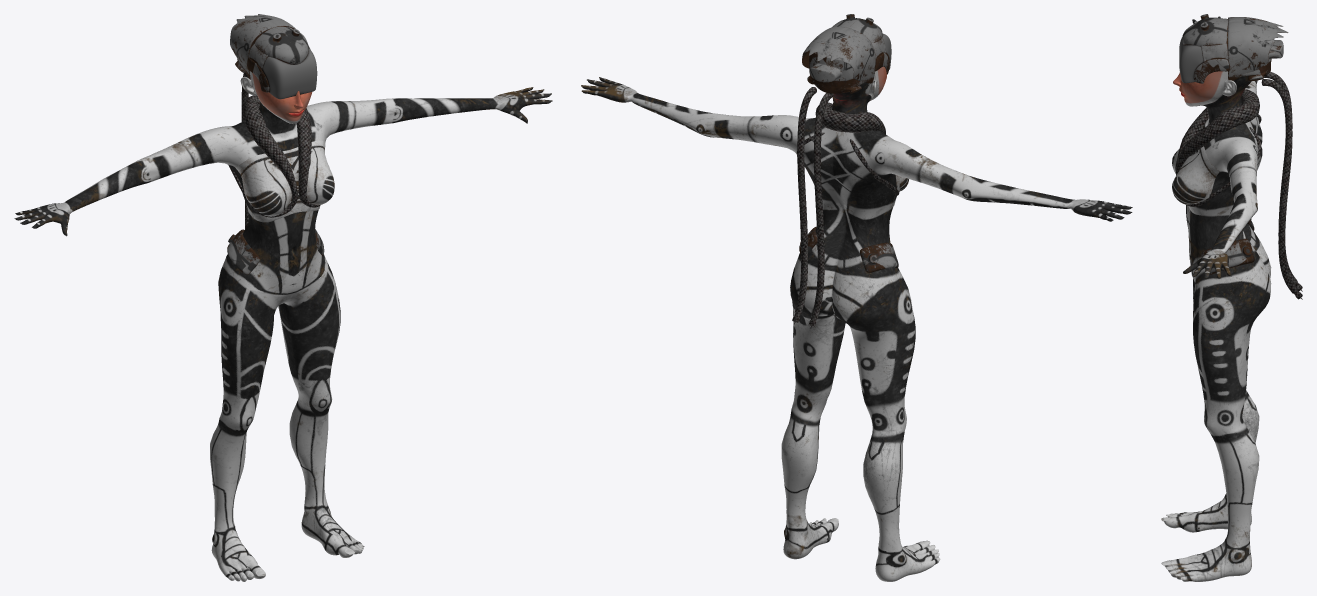
The picture shows the model from 3 angles, left to right: view 1: azimuth 30°, elevation 25°; view 2: azimuth 150°, elevation 25°; view 3: azimuth 270°, elevation 25°; orthographic projection. The views are drawn at different scales.
Visible parts, largest first — view 1: polySurface29, polySurface33, robo18, polySurface35, robo10_01, polySurface31; view 2: polySurface29, robo18, polySurface37, polySurface34, robo28_01, polySurface35, polySurface31; view 3: polySurface29, robo18, polySurface35, polySurface33, polySurface37, robo28_01, robo10_01, polySurface32, polySurface34.
Part boxes in pixels (left/top/right/bottom): polySurface29: left=14, top=43, right=552, bottom=581; polySurface33: left=235, top=140, right=334, bottom=222; robo18: left=230, top=14, right=309, bottom=79; polySurface35: left=228, top=95, right=320, bottom=217; robo10_01: left=262, top=47, right=317, bottom=99; polySurface31: left=227, top=229, right=259, bottom=274; polySurface29: left=581, top=66, right=1132, bottom=581; robo18: left=802, top=14, right=886, bottom=83; polySurface37: left=792, top=87, right=816, bottom=324; polySurface34: left=808, top=93, right=833, bottom=328; robo28_01: left=807, top=52, right=889, bottom=93; polySurface35: left=796, top=102, right=899, bottom=195; polySurface31: left=860, top=242, right=898, bottom=272; polySurface29: left=1161, top=16, right=1271, bottom=581; robo18: left=1182, top=14, right=1288, bottom=80; polySurface35: left=1175, top=89, right=1261, bottom=206; polySurface33: left=1172, top=146, right=1219, bottom=215; polySurface37: left=1261, top=79, right=1302, bottom=299; robo28_01: left=1194, top=40, right=1283, bottom=83; robo10_01: left=1179, top=37, right=1203, bottom=83; polySurface32: left=1201, top=238, right=1254, bottom=274; polySurface34: left=1263, top=72, right=1302, bottom=291.
Size of the model in its own units: 10.81 by 10.25 by 2.46.
7 materials, 7 textured.
